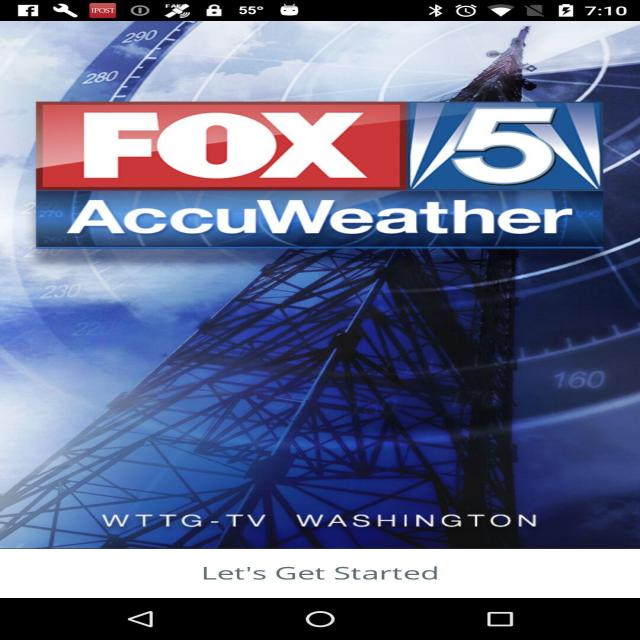button: (0, 549, 639, 598)
image: (0, 21, 638, 548)
text: (50, 197, 582, 243), (67, 108, 388, 183), (97, 512, 542, 534), (454, 105, 572, 186), (197, 564, 444, 584)
